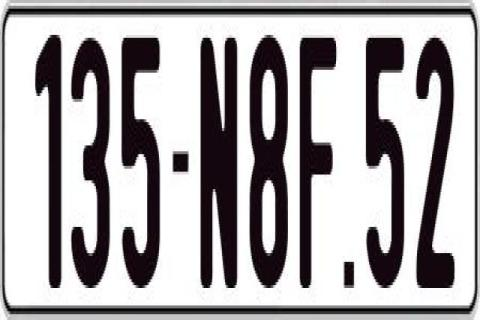0: (121, 35, 165, 297), (364, 35, 406, 294), (414, 35, 454, 299), (72, 38, 112, 291), (250, 26, 288, 282), (33, 35, 59, 288)
F: (298, 38, 340, 297)
N: (200, 38, 236, 294)
